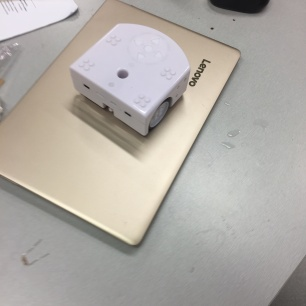thymio: (68, 20, 190, 140)
